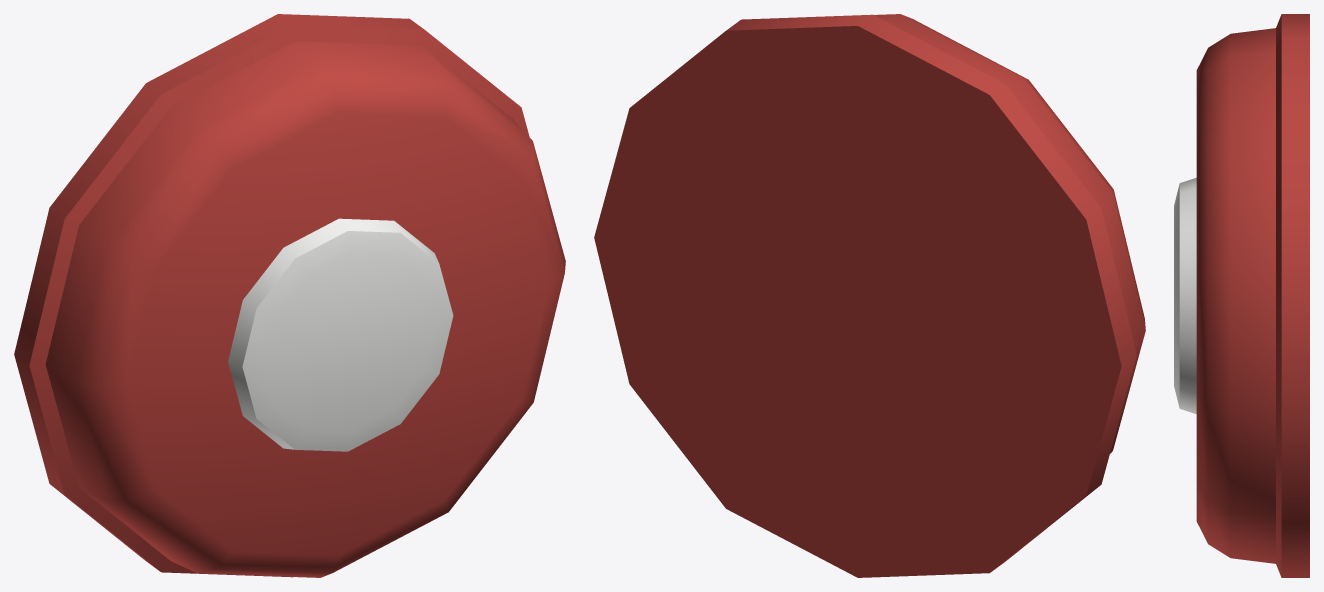
File: clutch_lod1.glb
3 views of the same model, side by side, from view 1: azimuth 30°, elevation 25°; view 2: azimuth 150°, elevation 25°; view 3: azimuth 270°, elevation 25° (orthographic). The views are drawn at different scales.
Visible parts, largest first — view 1: clutch_lod1; view 2: clutch_lod1; view 3: clutch_lod1.
Boxes of the visible parts, x1,y1,x2,y2 form: clutch_lod1: (14, 14, 565, 577); clutch_lod1: (594, 14, 1145, 577); clutch_lod1: (1174, 14, 1309, 577).
Bounding box in the file's own units: 0.2 × 0.2 × 0.048.
